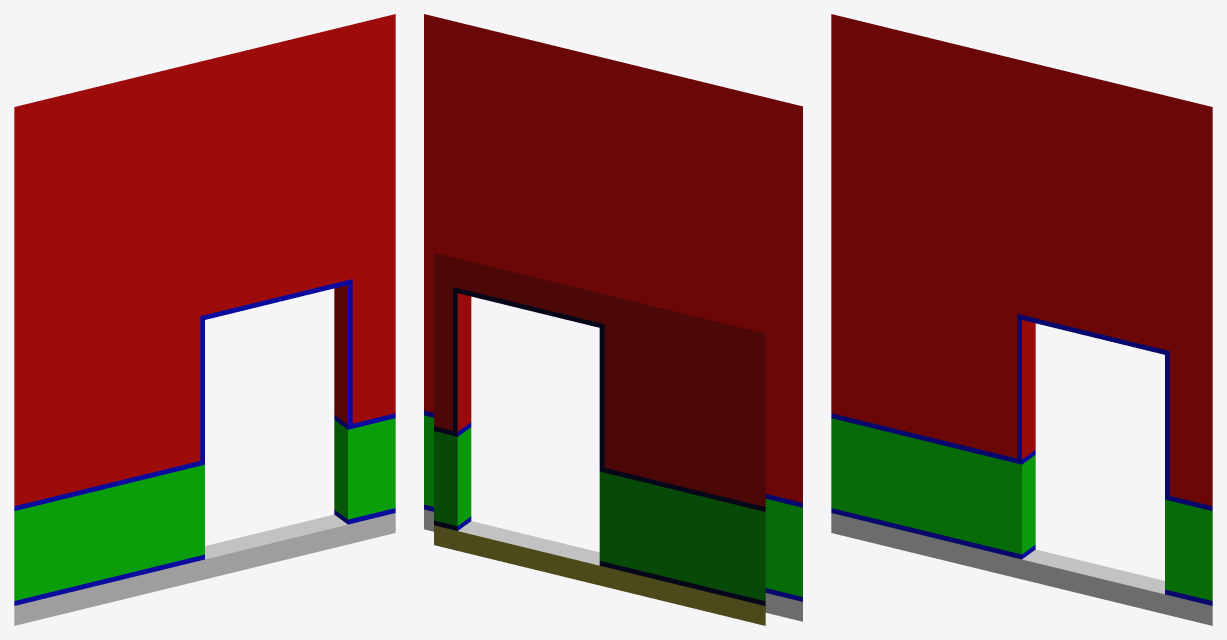
The model's file is SM_Room4xXDoorC.fbx.
The picture shows the model from 3 angles, left to right: view 1: azimuth 30°, elevation 25°; view 2: azimuth 150°, elevation 25°; view 3: azimuth 330°, elevation 25°; orthographic projection.
Visible parts, largest first — view 1: SM_Room4xXDoorC; view 2: SM_Room4xXDoorC; view 3: SM_Room4xXDoorC.
Boxes of the visible parts, x1,y1,x2,y2 form: SM_Room4xXDoorC: (14,14,395,625); SM_Room4xXDoorC: (424,14,802,625); SM_Room4xXDoorC: (831,14,1212,625).
Bounding box in the file's own units: 400 × 520 × 25.
